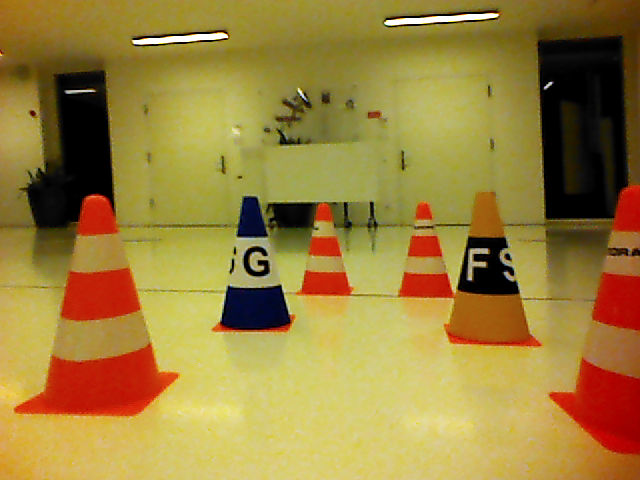bluecone: (221, 195, 291, 329)
orangeconesmall: (41, 194, 165, 409), (578, 183, 639, 445), (401, 201, 452, 295), (302, 202, 351, 294)
yellowcone: (450, 191, 532, 340)
